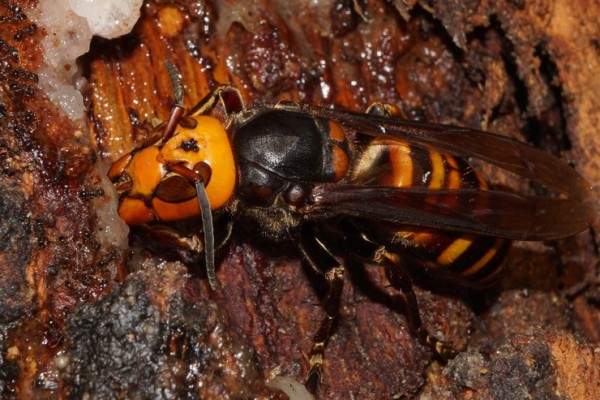asian_giant_hornet: (111, 79, 514, 286)
